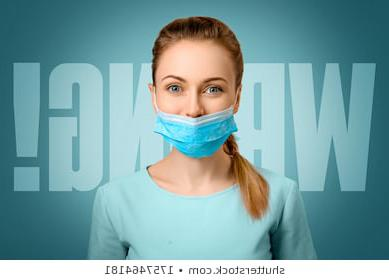mask_weared_incorrect: (156, 65, 233, 152)
